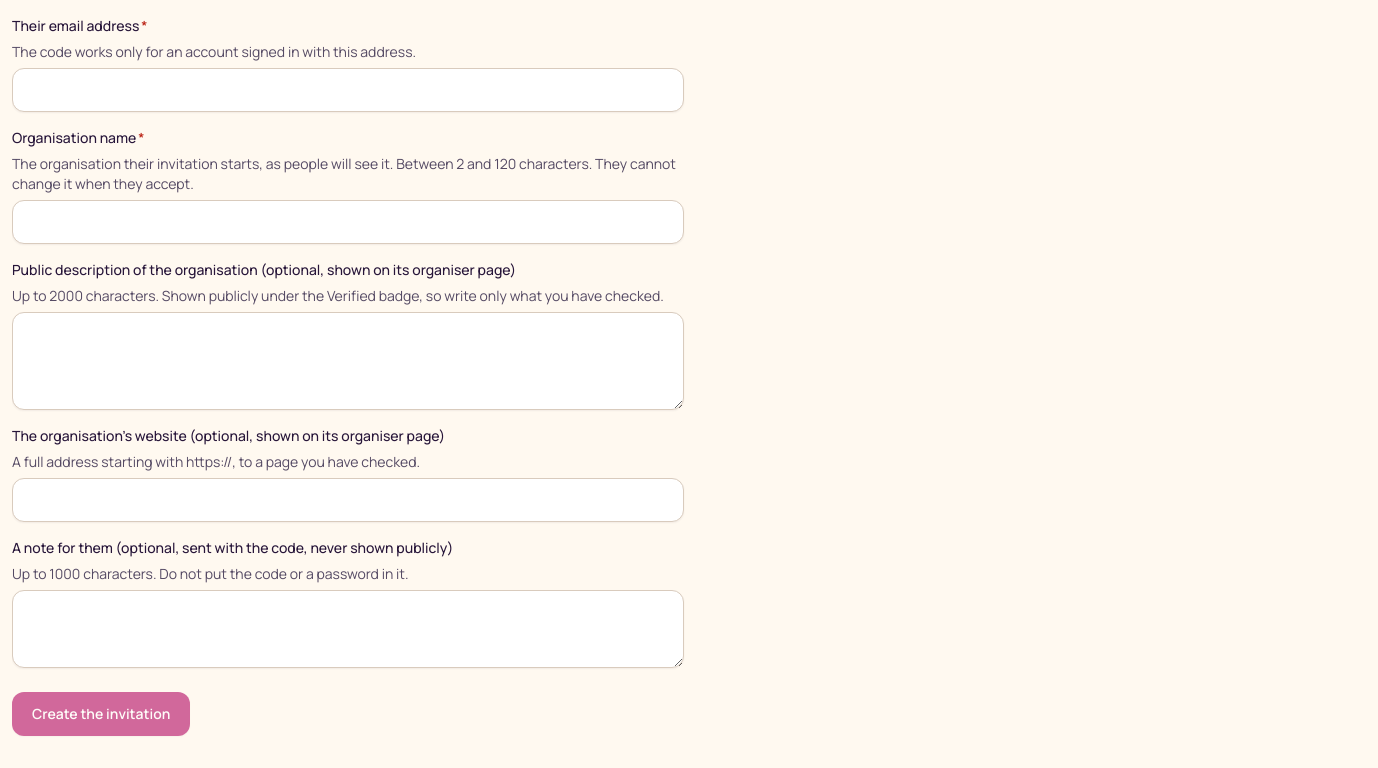
Test case: the organiser invite form › writes the code to no storage and puts it in no link
In the field labelled "Their email address*": (348, 90) [12,68,684,112], type " priya@rangoli.example "
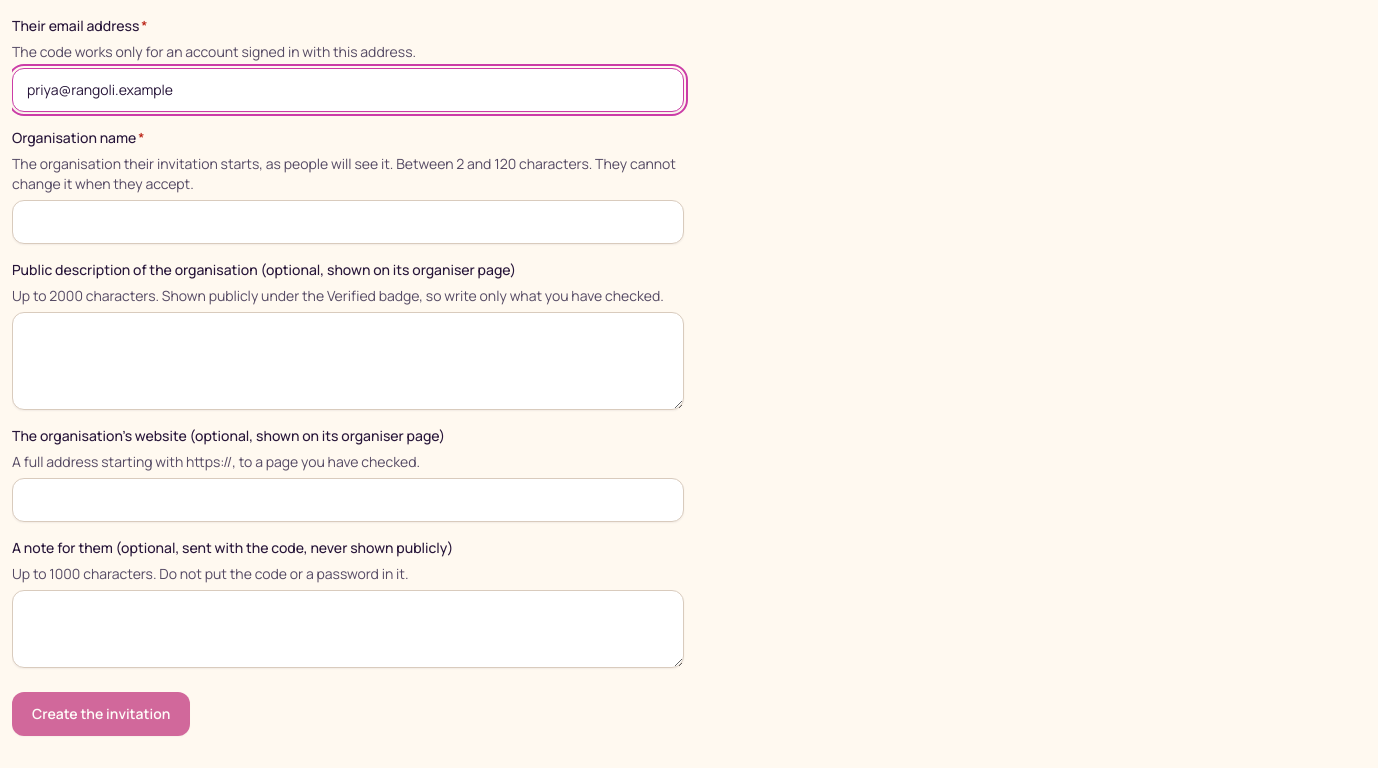
In the field labelled "Organisation name*": (348, 222) [12,200,684,244], type "Rangoli Collective"
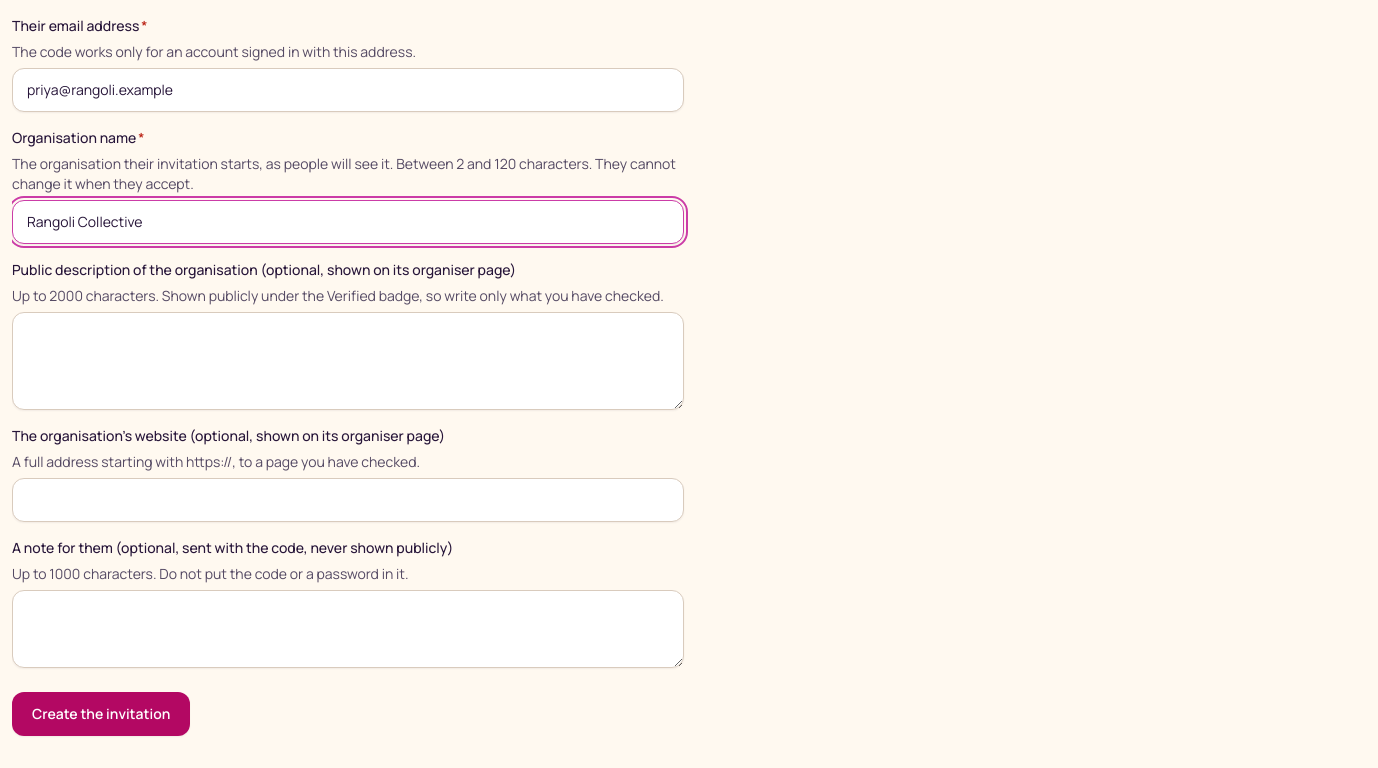
Click the button "Create the invitation": (101, 714) [12,692,190,736]
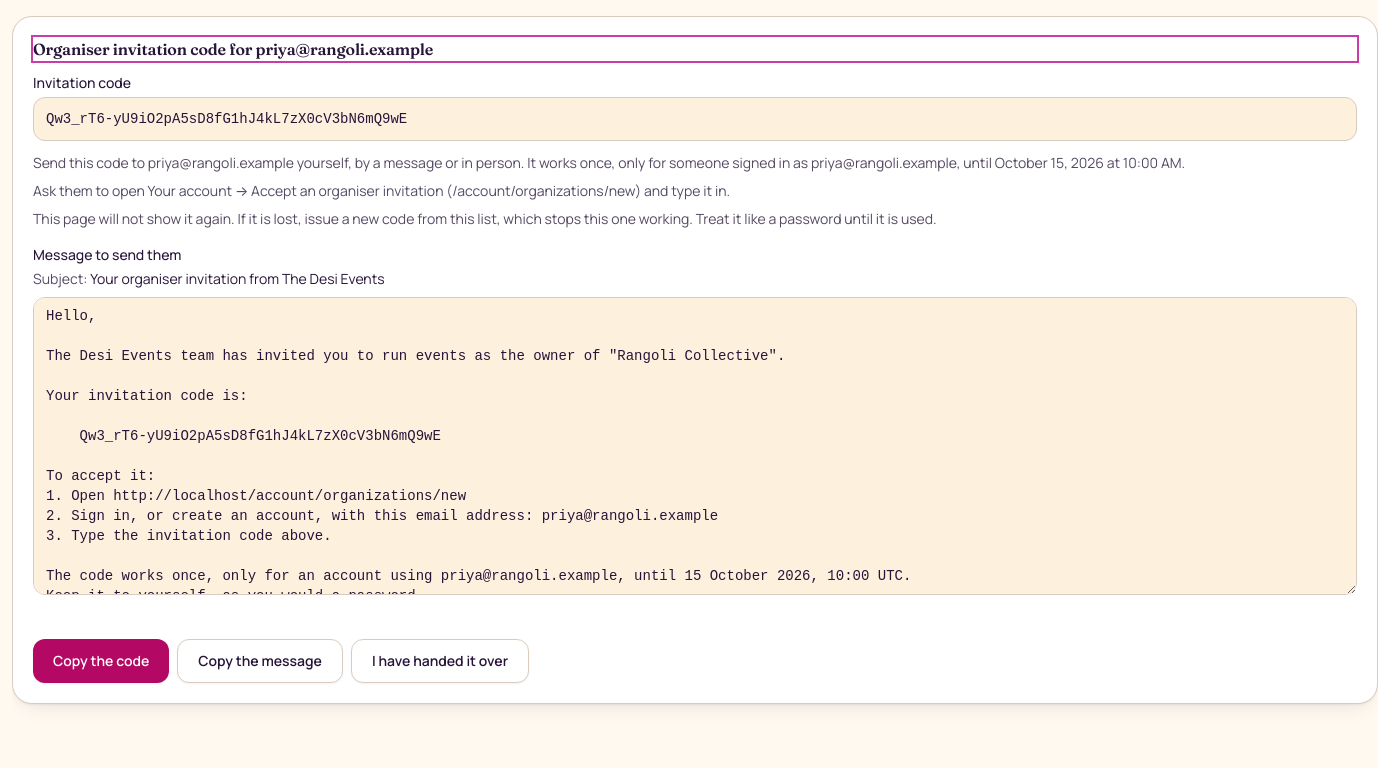
Result: the field labelled "Invitation code" is shown at [33,97,1357,141]
